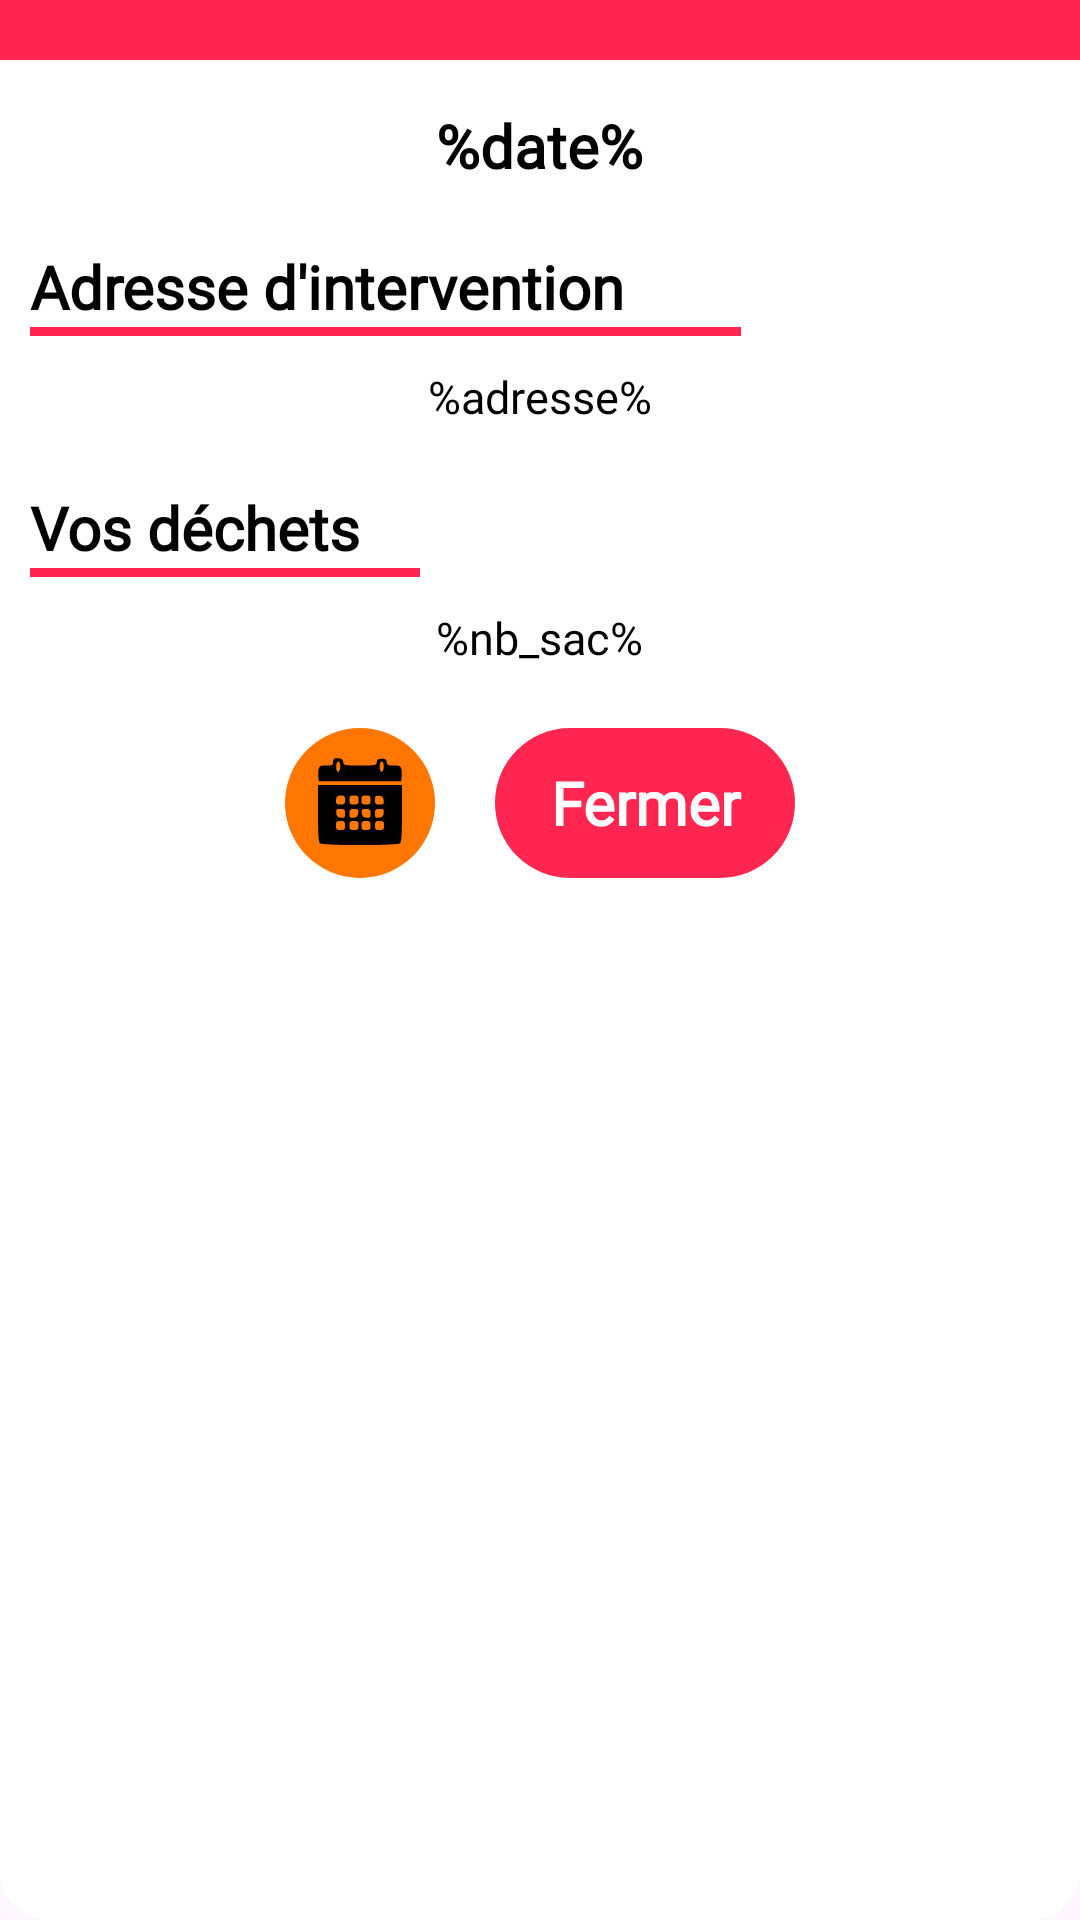

Named icons in this screenshot (1080 × 1920) and their centers, [x,y]:
agenda: [360,803]
